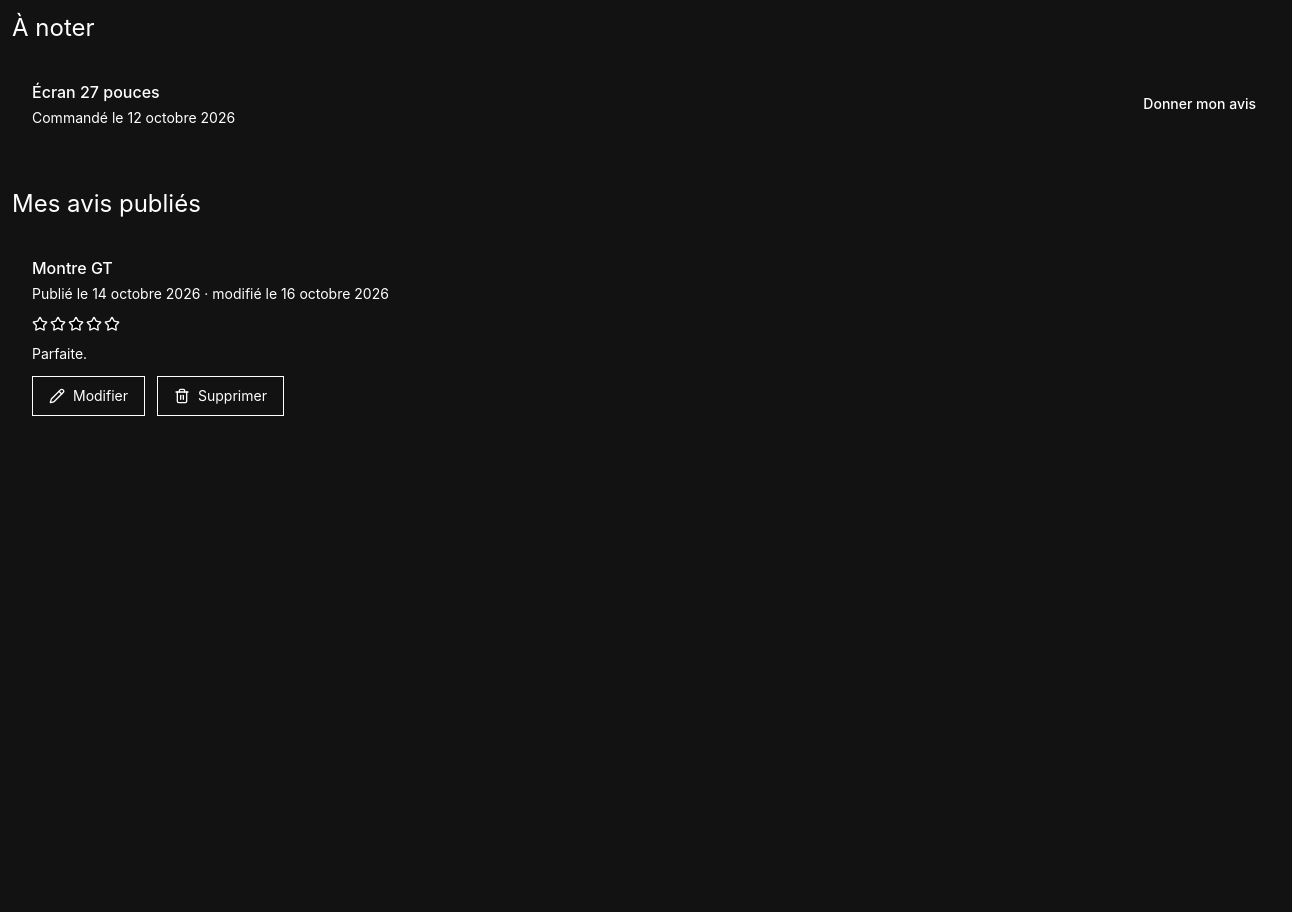
review form › sends the rating, the comment and the identifiers, then announces the publication
Click the button with aria-label "Donner ton avis sur Écran 27 pouces" at (1200, 104), box [1127,86,1272,122]
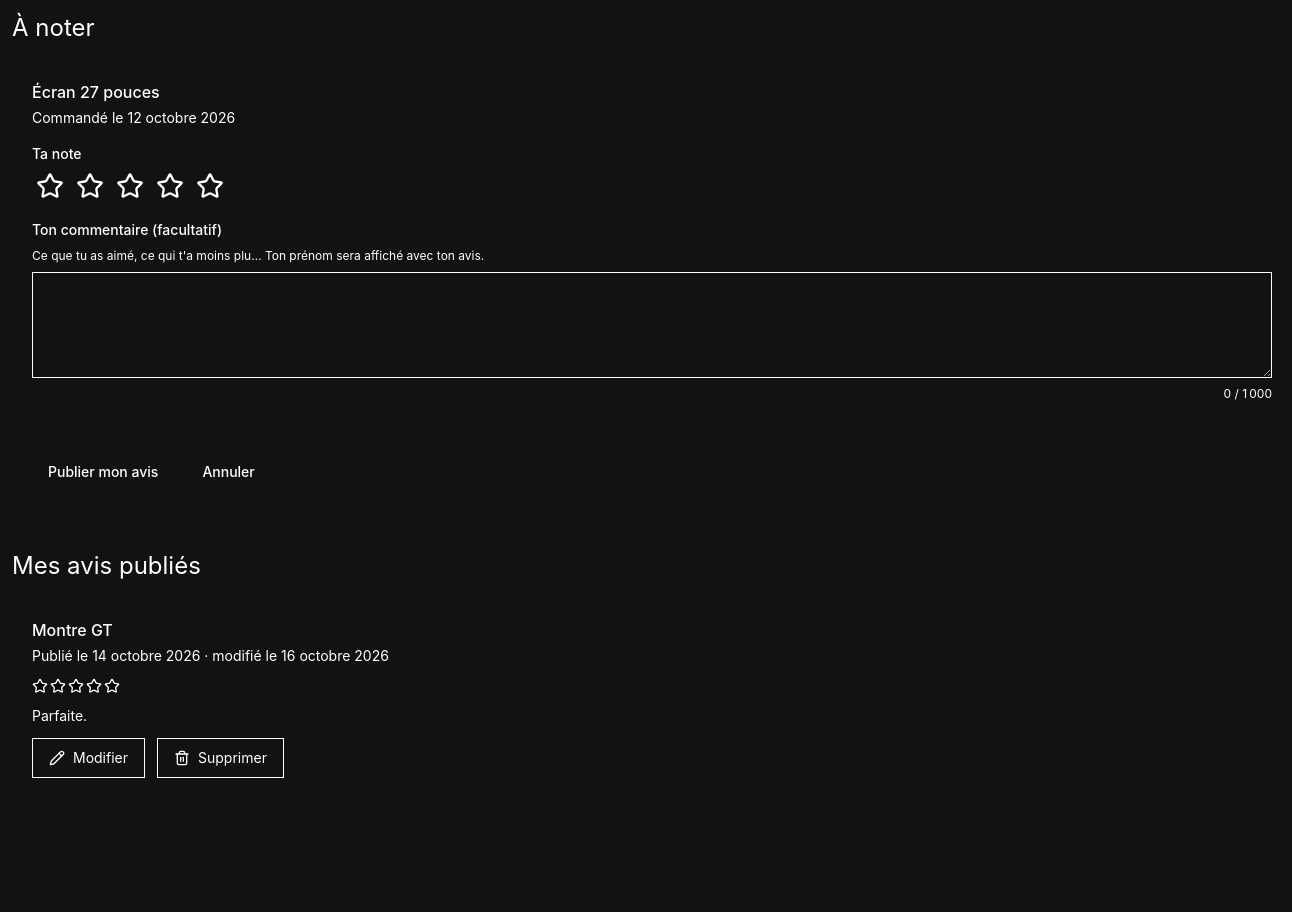
Click the radio button named "4 étoiles" at (170, 186), box [152,168,188,204]
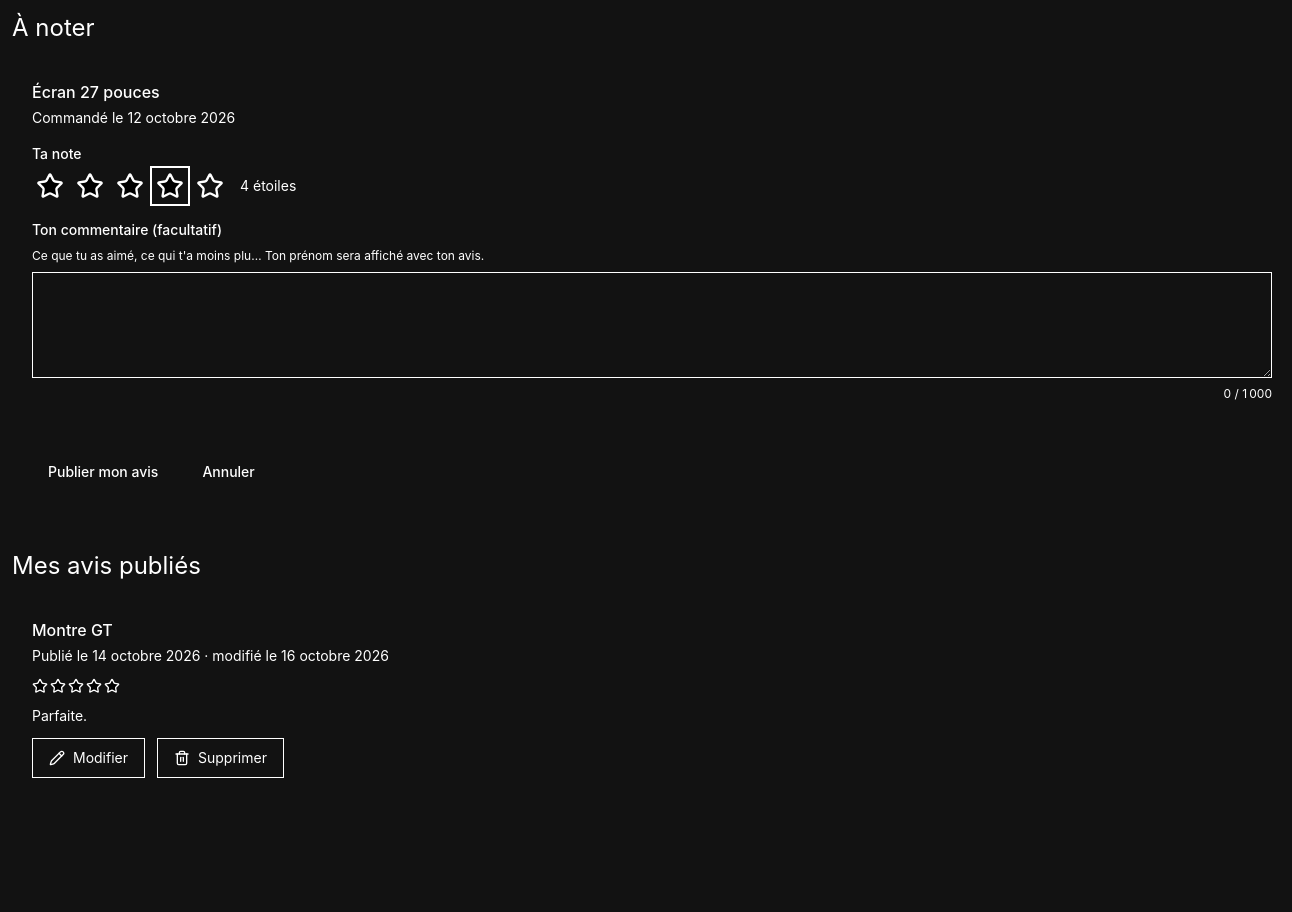
Type "Bien" into the text box labelled "Ton commentaire (facultatif)" at (652, 325), box [32,272,1272,378]
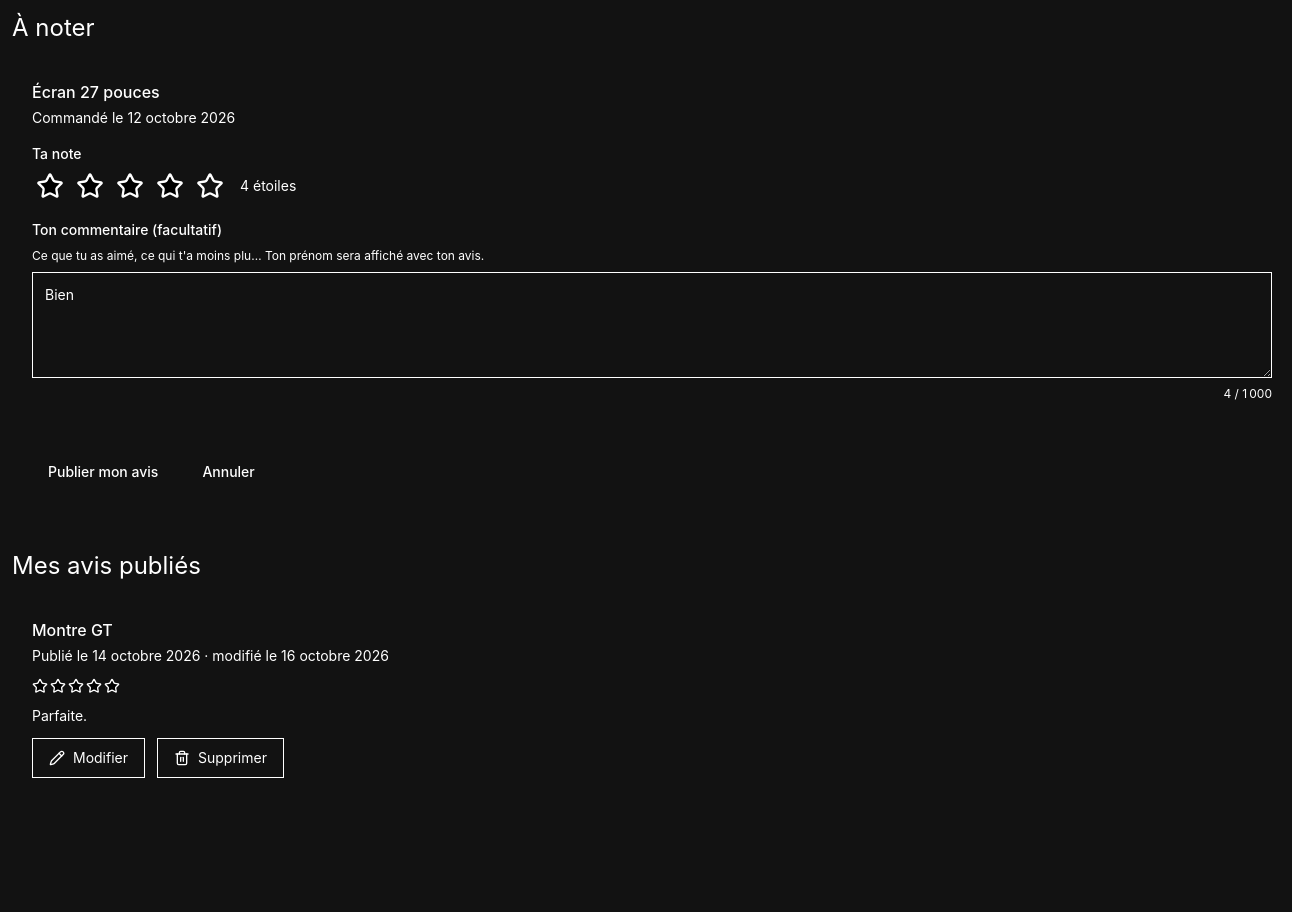
Click the button "Publier mon avis" at (103, 472), box [32,454,174,490]
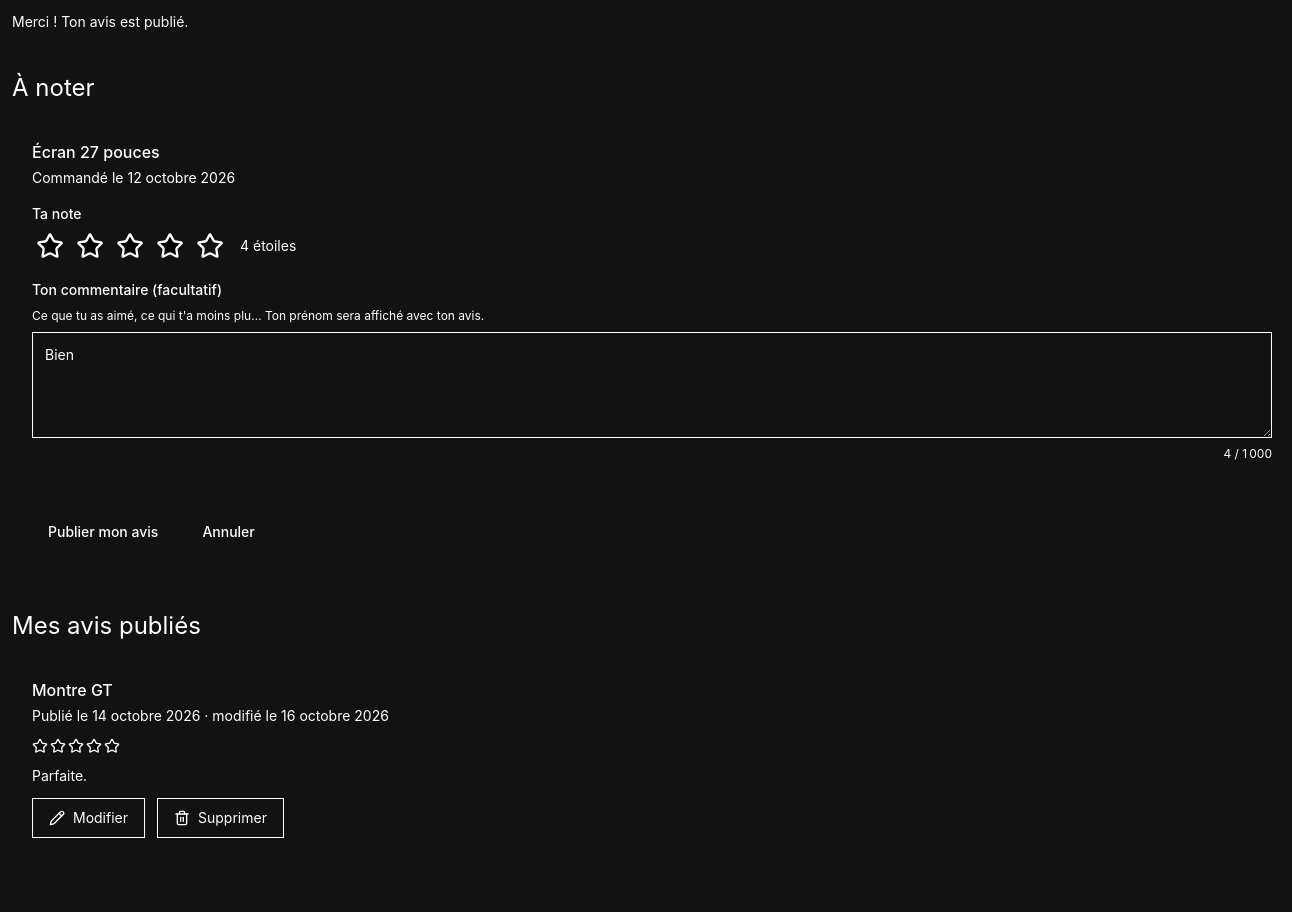
Now the text "Merci ! Ton avis est publié." is shown, box [12,13,188,30]
